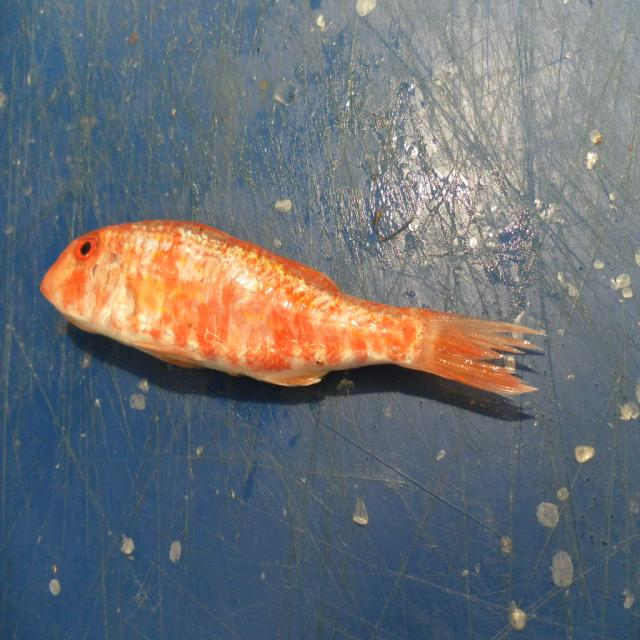Red-Mullet-kefal-: (39, 222, 545, 399)
